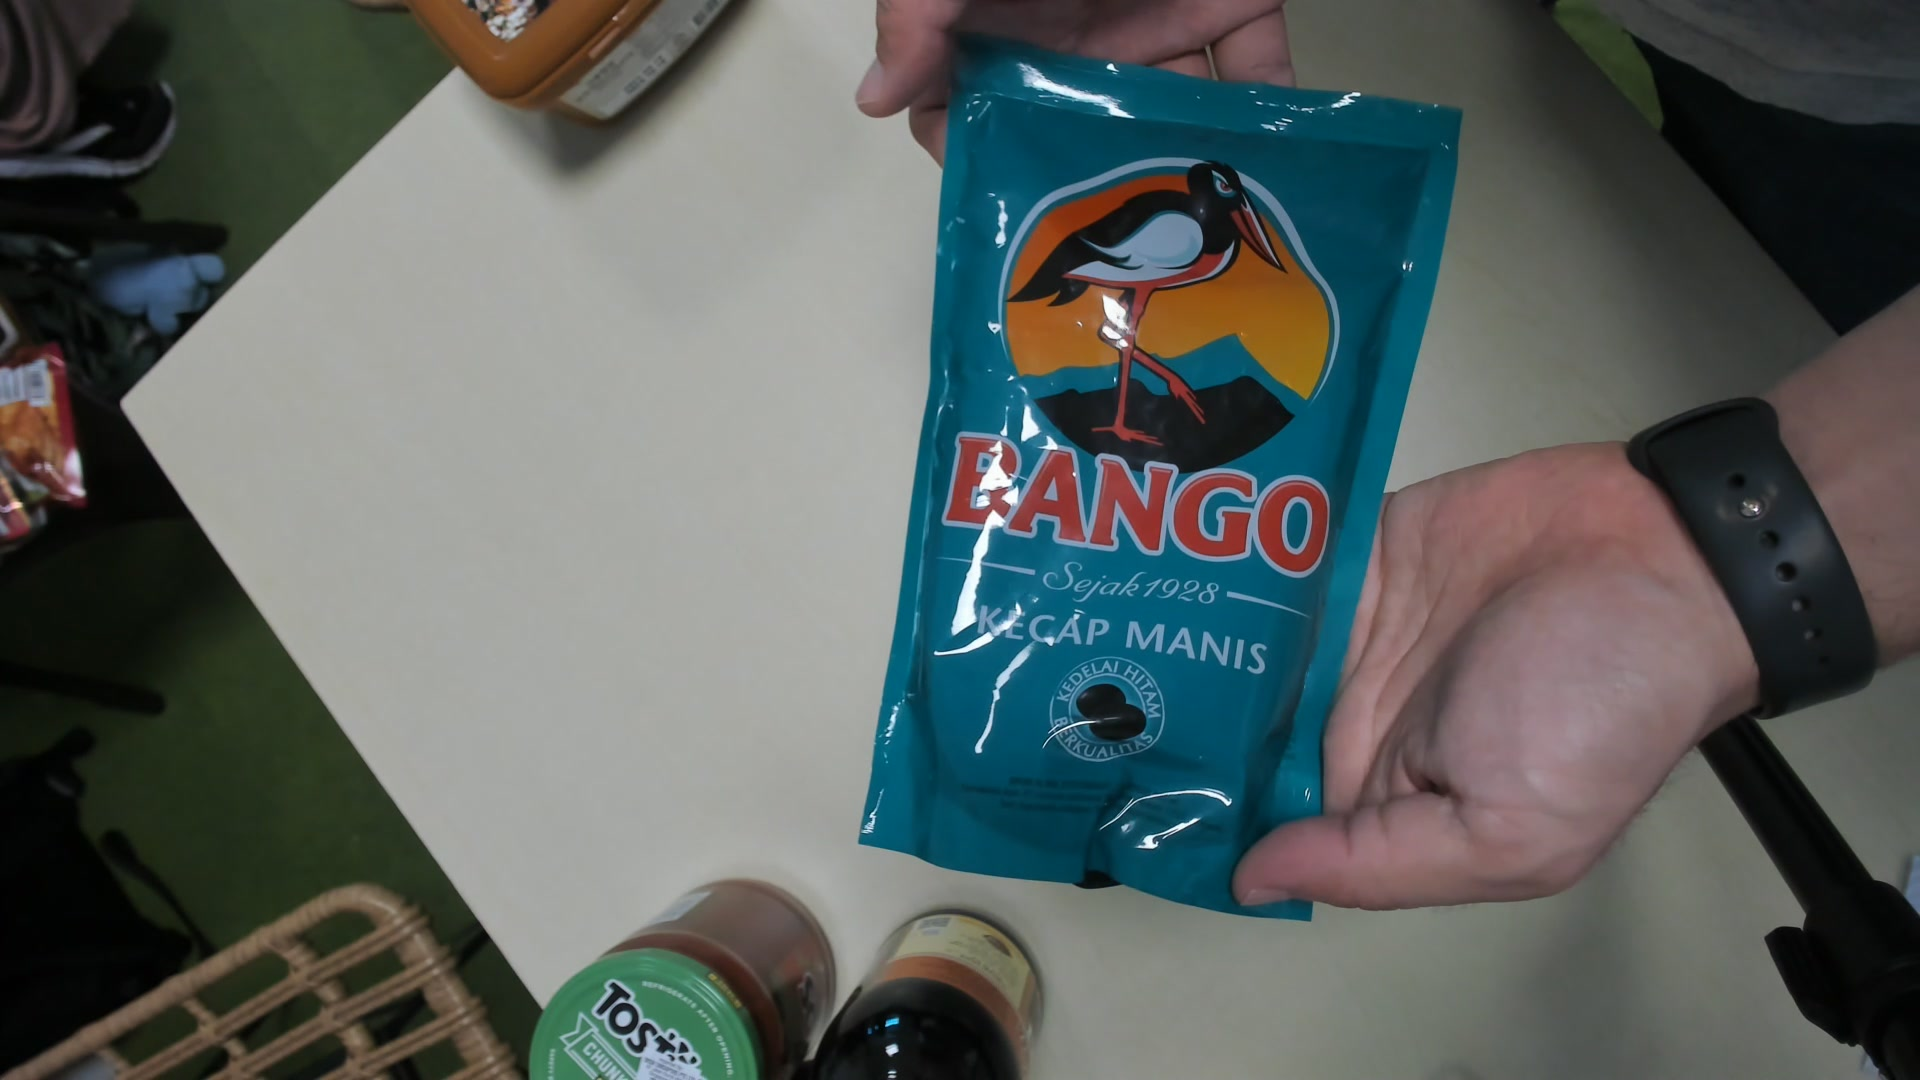OtherSauceDressing_500-599g_NonHalal_NonHealthy: (903, 51, 1455, 939)
